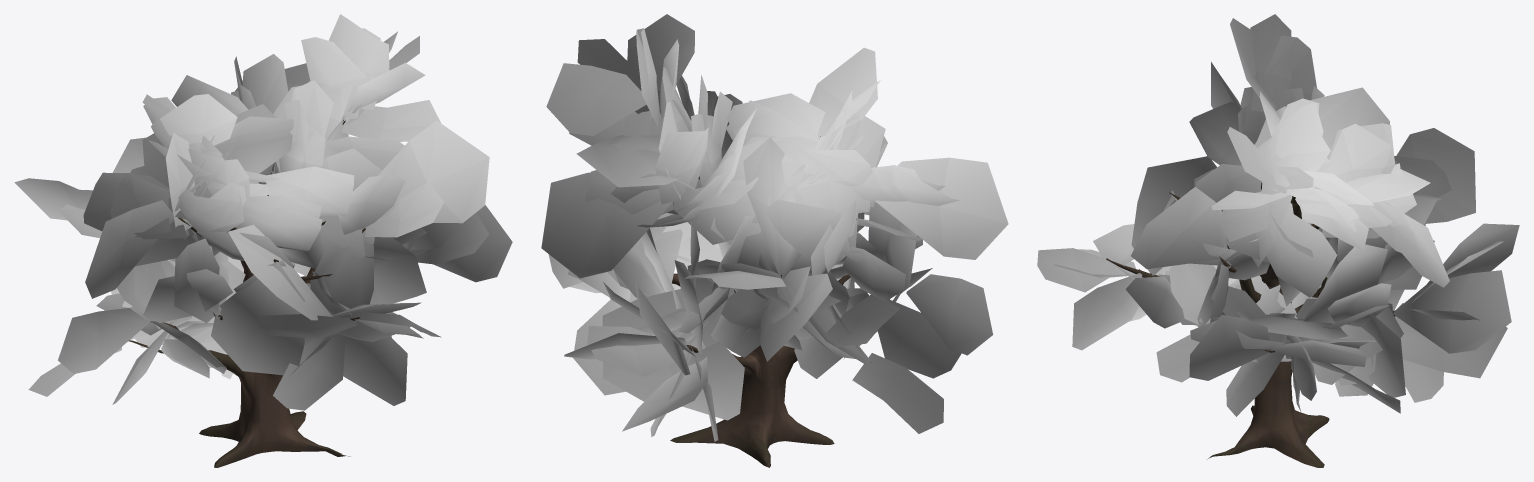
Rendered from tree-oak.glb.
3 views of the same model, side by side, from view 1: azimuth 30°, elevation 25°; view 2: azimuth 150°, elevation 25°; view 3: azimuth 270°, elevation 25° (orthographic). The views are drawn at different scales.
Visible parts, largest first — view 1: leaves, bark; view 2: leaves, bark; view 3: leaves, bark.
Boxes of the visible parts, x1=… form: leaves: x1=14, y1=14, x2=512, y2=410; bark: x1=128, y1=120, x2=365, y2=467; leaves: x1=541, y1=14, x2=1008, y2=441; bark: x1=670, y1=136, x2=870, y2=467; leaves: x1=1037, y1=14, x2=1519, y2=416; bark: x1=1106, y1=183, x2=1395, y2=467.
Size of the model in its own units: 1.13 by 1 by 1.15.
